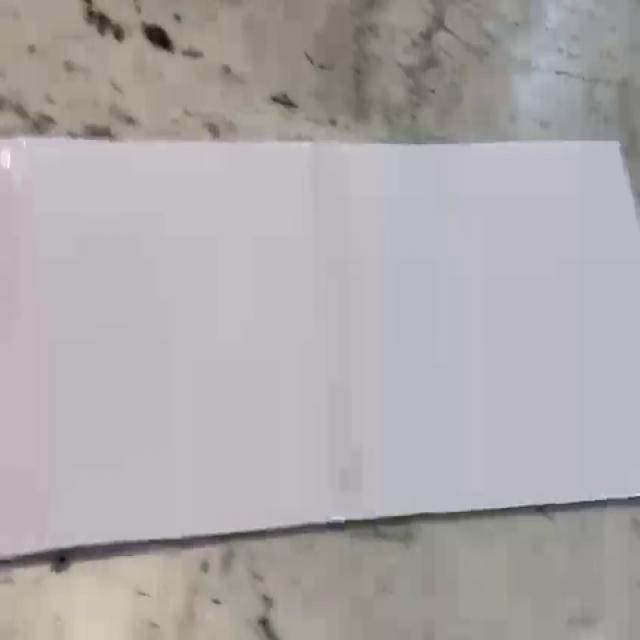road: (0, 139, 640, 559)
